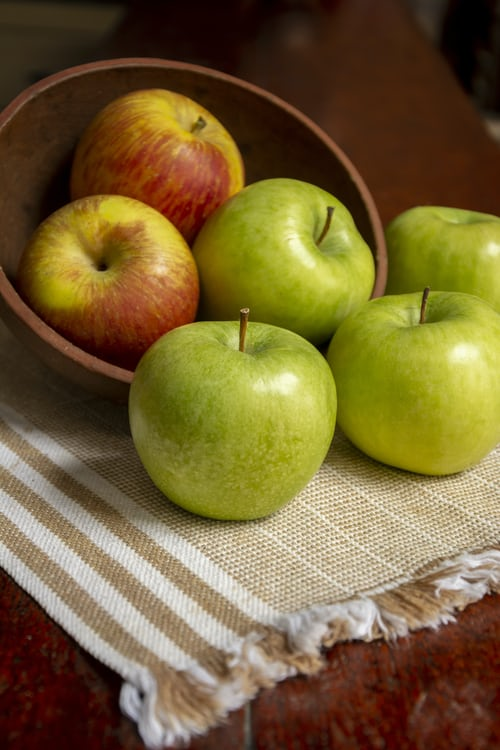apple: (122, 304, 341, 525), (13, 190, 200, 370), (324, 286, 497, 478), (192, 175, 374, 334), (69, 84, 248, 242), (375, 198, 497, 317)
